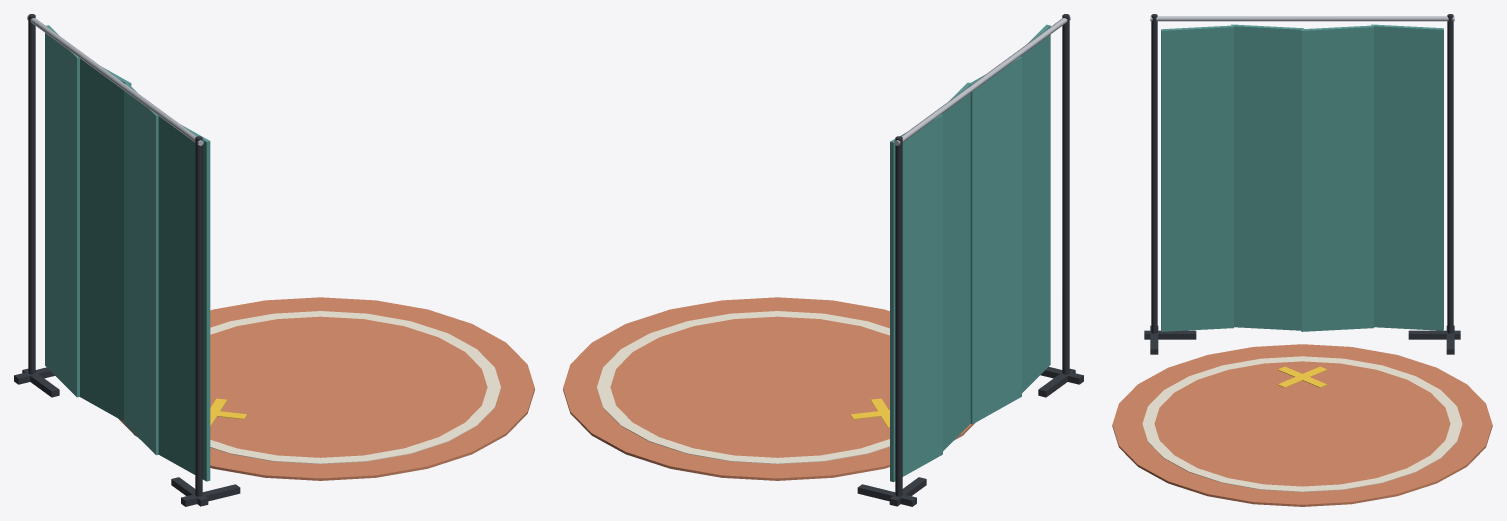
The model's file is station_buffer_basis.glb.
3 renders of one model, left to right at view 1: azimuth 30°, elevation 25°; view 2: azimuth 150°, elevation 25°; view 3: azimuth 270°, elevation 25°, orthographic. The views are drawn at different scales.
Parts seen in each view (by area): view 1: station_buffer_basis; view 2: station_buffer_basis; view 3: station_buffer_basis.
Boxes of the visible parts, x1,y1,x2,y2 form: station_buffer_basis: [14, 14, 534, 506]; station_buffer_basis: [563, 14, 1083, 506]; station_buffer_basis: [1112, 14, 1492, 506].
Bounding box in the file's own units: 2.08 × 1.78 × 1.9.
